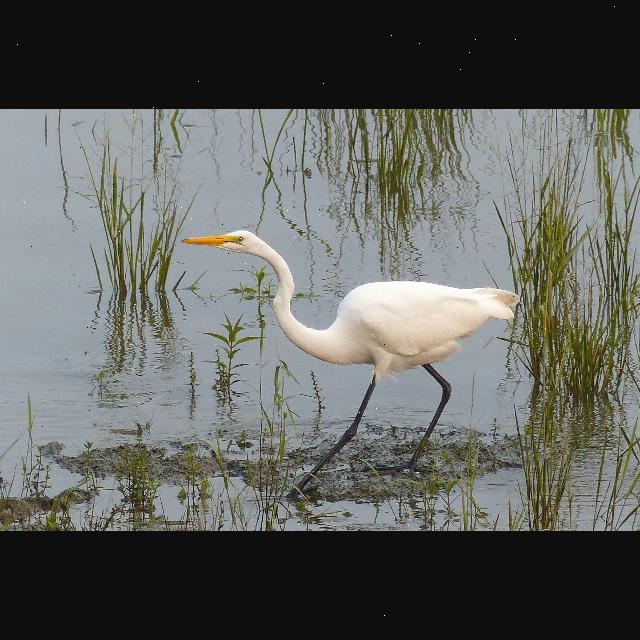egret: (174, 221, 526, 504)
